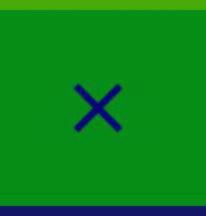ImgButton: (1, 1, 205, 215)
